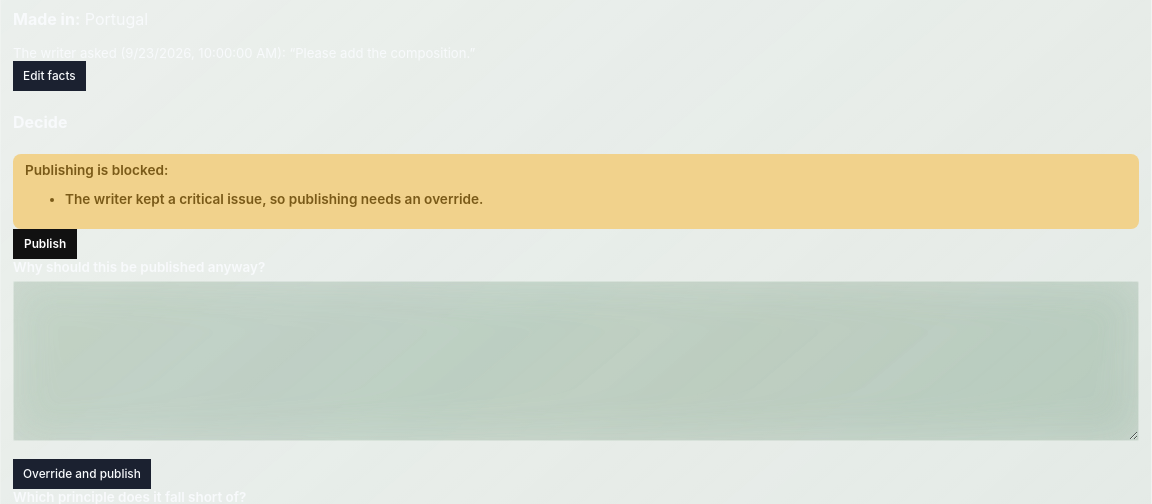
Test case: overriding › a refusal because the account lacks the permission is shown as the server said it
(page scrolled)
Type "Certificate checked today." into the text box labelled "Why should this be published anyway?".
click(576, 361); type("Certificate checked today.")  # box [13,281,1139,441]
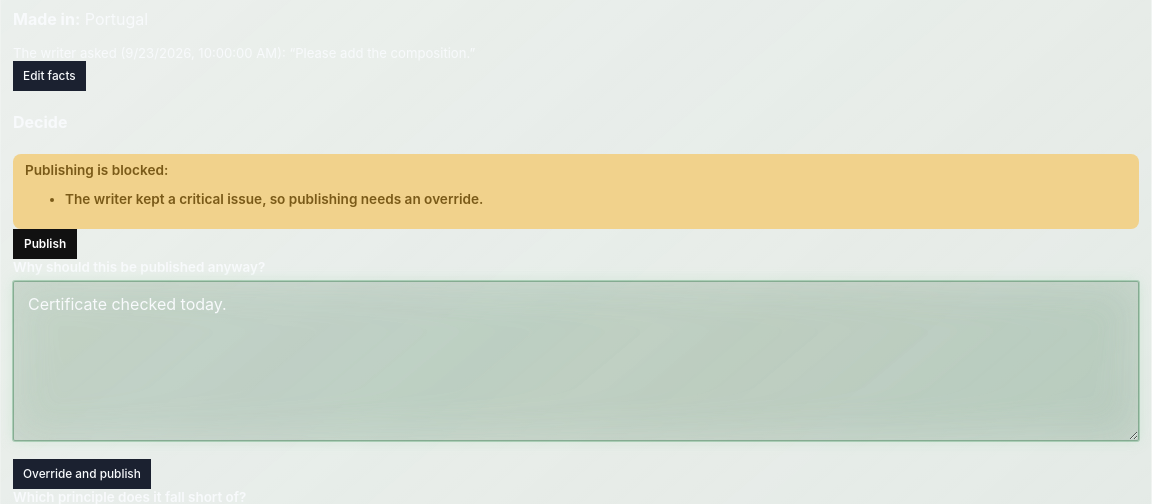
Click the button "Override and publish".
click(82, 474)  # box [13,459,151,489]
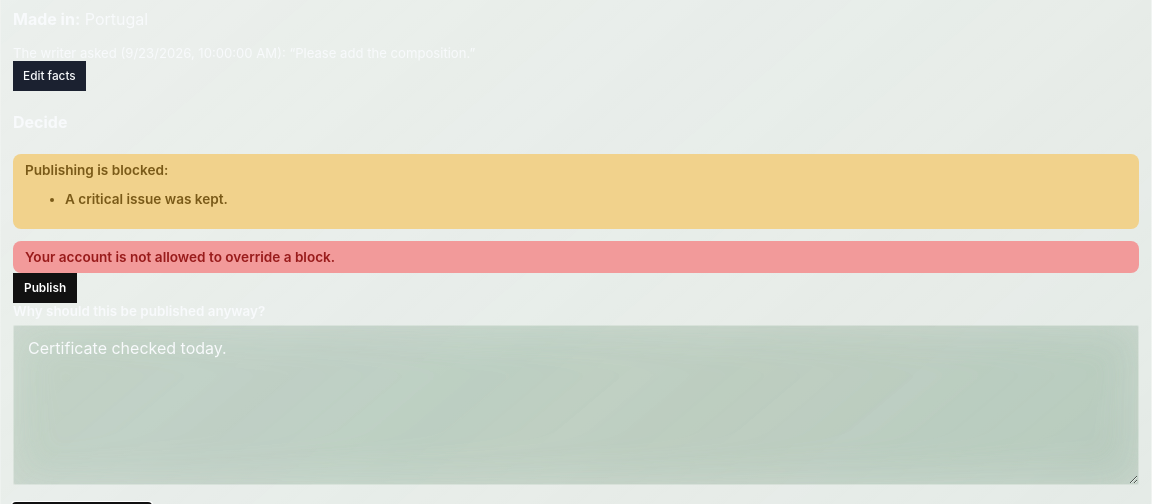
expect the text "Your account is not allowed to override a block." is shown: met, box [13,241,1139,273]
